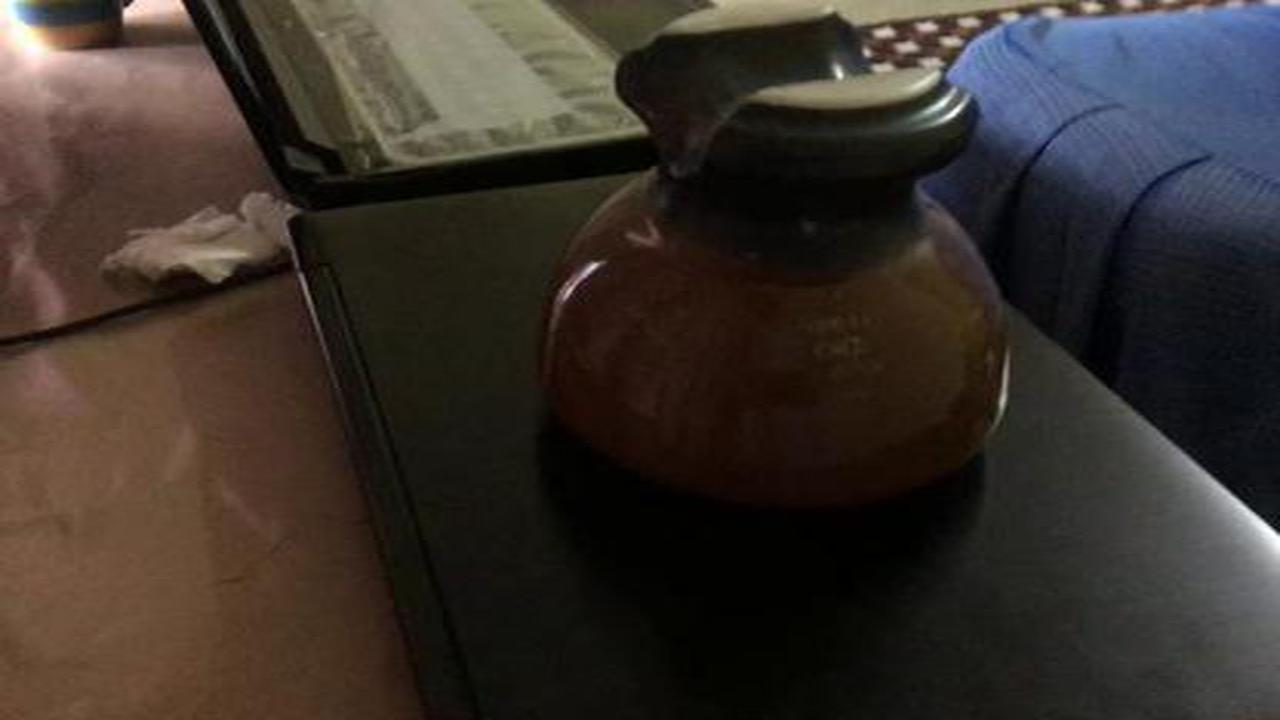insulator_pin: (474, 7, 1025, 532)
